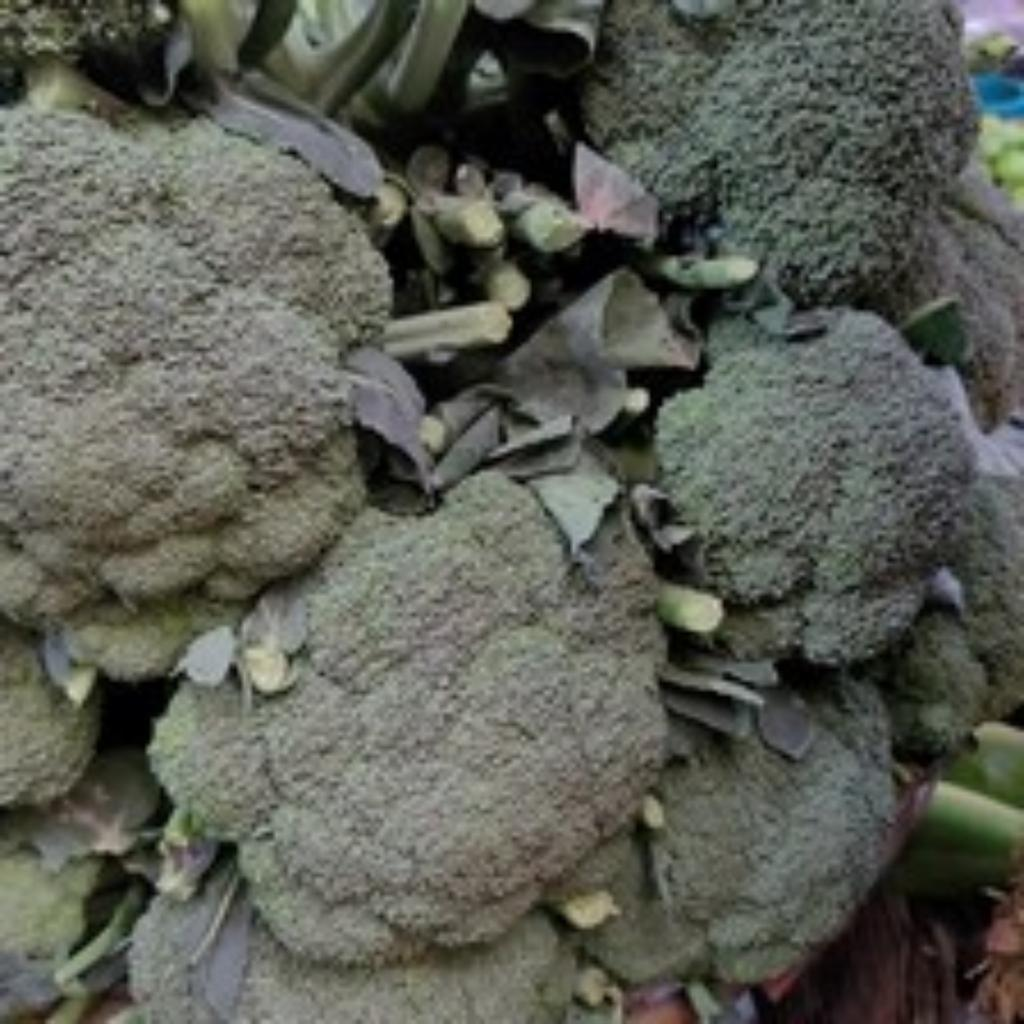Broccoli: (0, 111, 386, 805), (152, 472, 666, 961), (160, 472, 666, 961), (0, 116, 384, 677), (584, 0, 1024, 421), (584, 0, 1024, 421), (656, 310, 972, 665), (656, 310, 972, 665), (662, 674, 896, 983), (662, 676, 896, 983)
